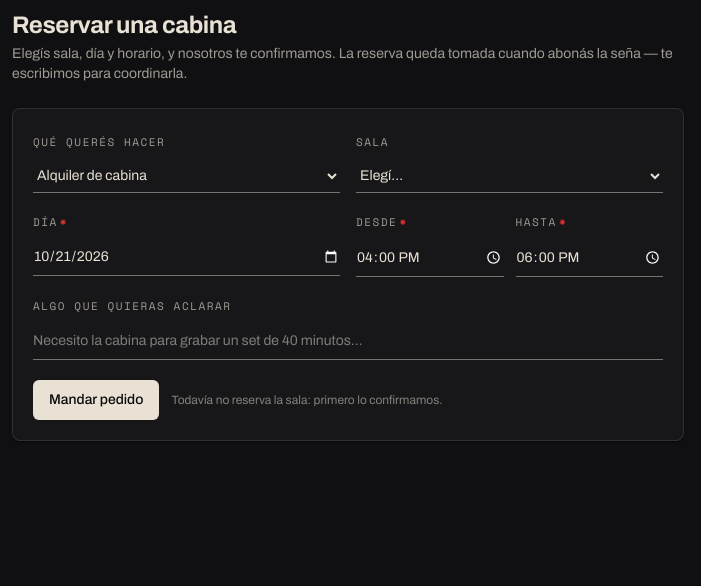
Test case: la disponibilidad › muestra las franjas tomadas sin decir de quién son
The width and height of the screenshot is (701, 586).
Step 1. Select "Sala 1" in the dropdown labelled "Sala" → (510, 176), box [356,159,663,193]
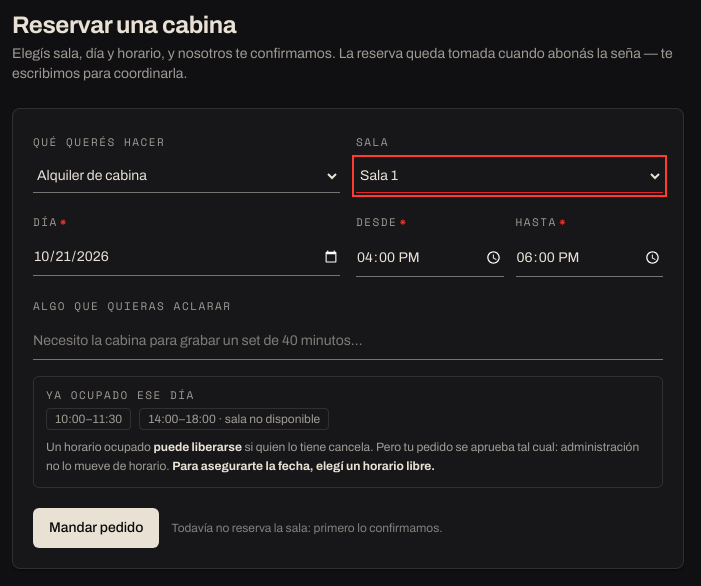
Result: the list item "10:00–11:30" is shown at [46,408,131,430]
Result: the list item "14:00–18:00 · sala no disponible" is shown at [139,408,329,430]
